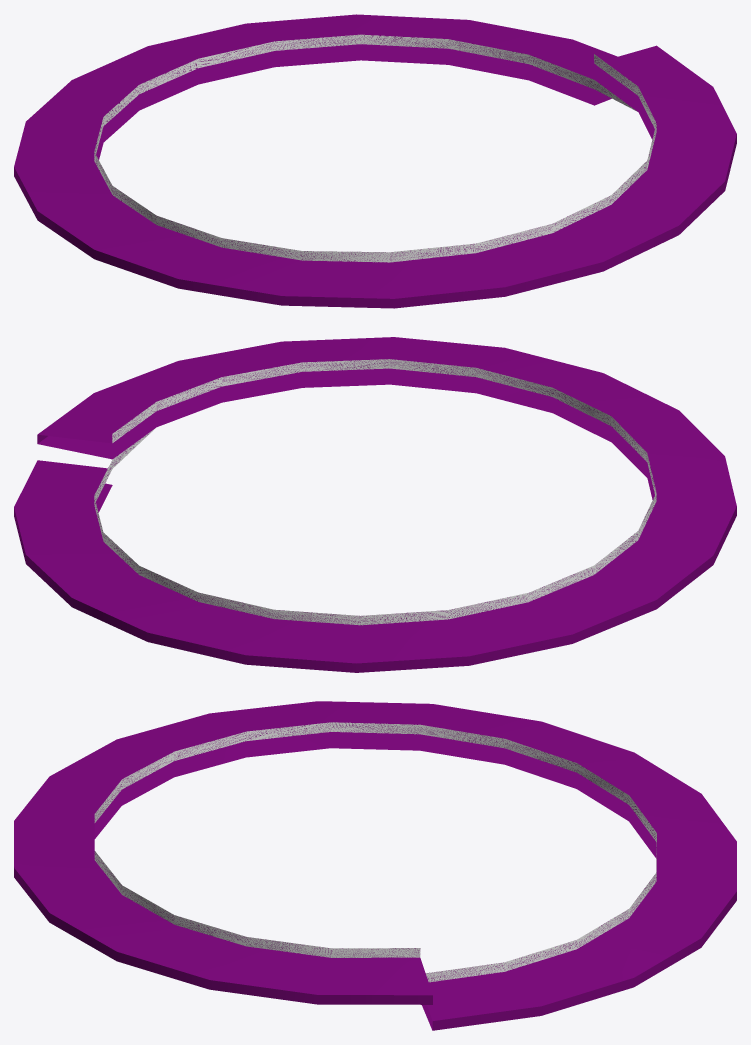
File: original-9.obj
3 renders of one model, top to bottom at view 1: azimuth 30°, elevation 25°; view 2: azimuth 150°, elevation 25°; view 3: azimuth 270°, elevation 25°, orthographic.
Visible parts, largest first — view 1: _1_1_6/_1_1/mesh1/mesh1-geometry#mesh1-geometry; view 2: _1_1_6/_1_1/mesh1/mesh1-geometry#mesh1-geometry; view 3: _1_1_6/_1_1/mesh1/mesh1-geometry#mesh1-geometry.
Part boxes in pixels (x1,y1,x2,y2): _1_1_6/_1_1/mesh1/mesh1-geometry#mesh1-geometry: [14, 14, 736, 308]; _1_1_6/_1_1/mesh1/mesh1-geometry#mesh1-geometry: [14, 337, 736, 672]; _1_1_6/_1_1/mesh1/mesh1-geometry#mesh1-geometry: [14, 701, 736, 1030].
Size of the model in its own units: 0.4024 by 0.0319 by 0.4024.
